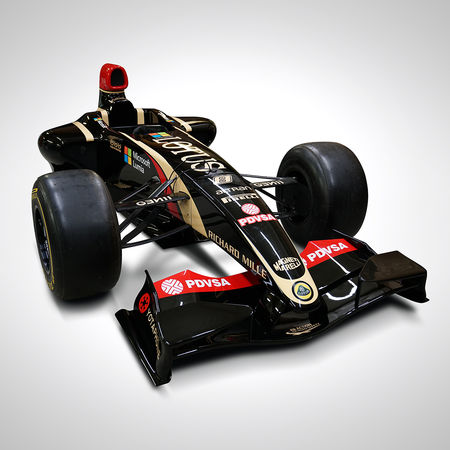f1_car: (25, 58, 437, 397)
